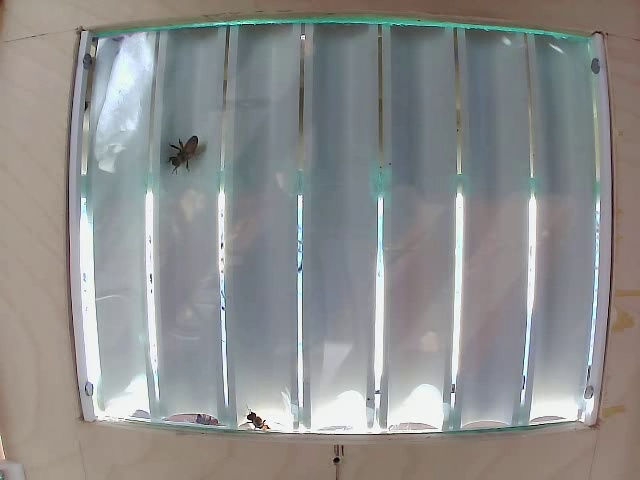bee: (164, 133, 209, 180)
